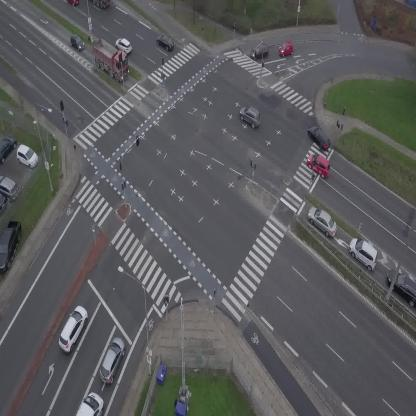car: (53, 303, 92, 354), (96, 335, 130, 386), (343, 234, 384, 272), (303, 203, 343, 240), (303, 150, 336, 180), (304, 122, 335, 152), (236, 102, 265, 130), (65, 32, 87, 54), (154, 33, 176, 52), (113, 36, 135, 55), (249, 44, 269, 59), (277, 41, 295, 57), (66, 0, 79, 6)
lorry: (83, 33, 138, 85), (75, 392, 103, 416)
